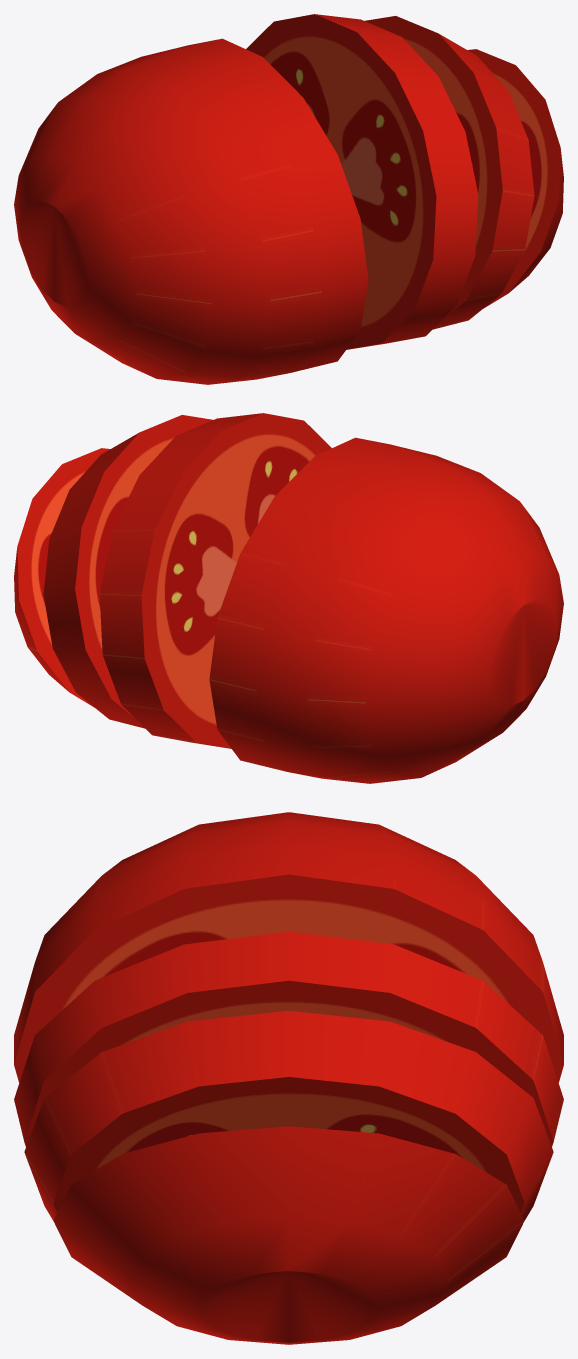
The model's file is Tomato_01_S3.fbx.
3 renders of one model, top to bottom at view 1: azimuth 30°, elevation 25°; view 2: azimuth 150°, elevation 25°; view 3: azimuth 270°, elevation 25°, orthographic. The views are drawn at different scales.
Parts seen in each view (by area): view 1: Tomato_01_S3; view 2: Tomato_01_S3; view 3: Tomato_01_S3.
Boxes of the visible parts, x1,y1,x2,y2 form: Tomato_01_S3: [14, 14, 563, 384]; Tomato_01_S3: [14, 413, 563, 783]; Tomato_01_S3: [14, 812, 563, 1344].
Bounding box in the file's own units: 41.17 × 24.19 × 31.43.
